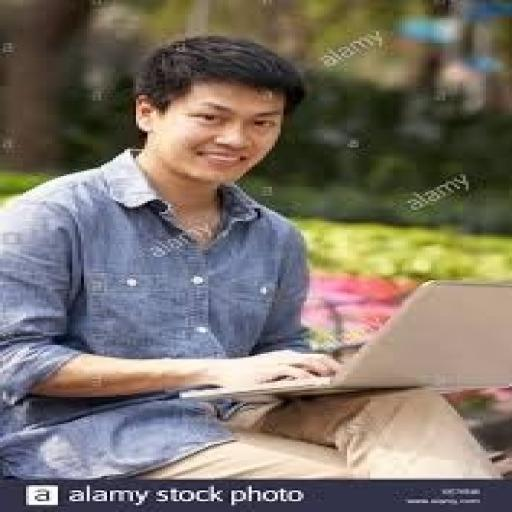using_laptop: (177, 276, 509, 402)
